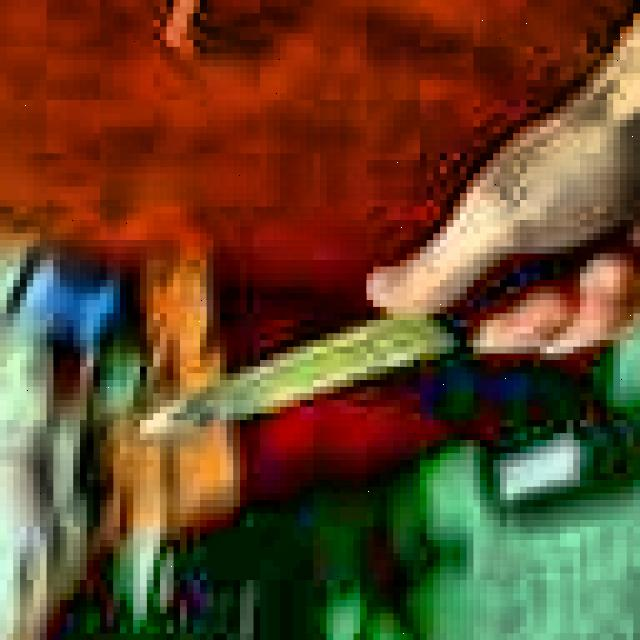knife: (135, 235, 631, 450)
